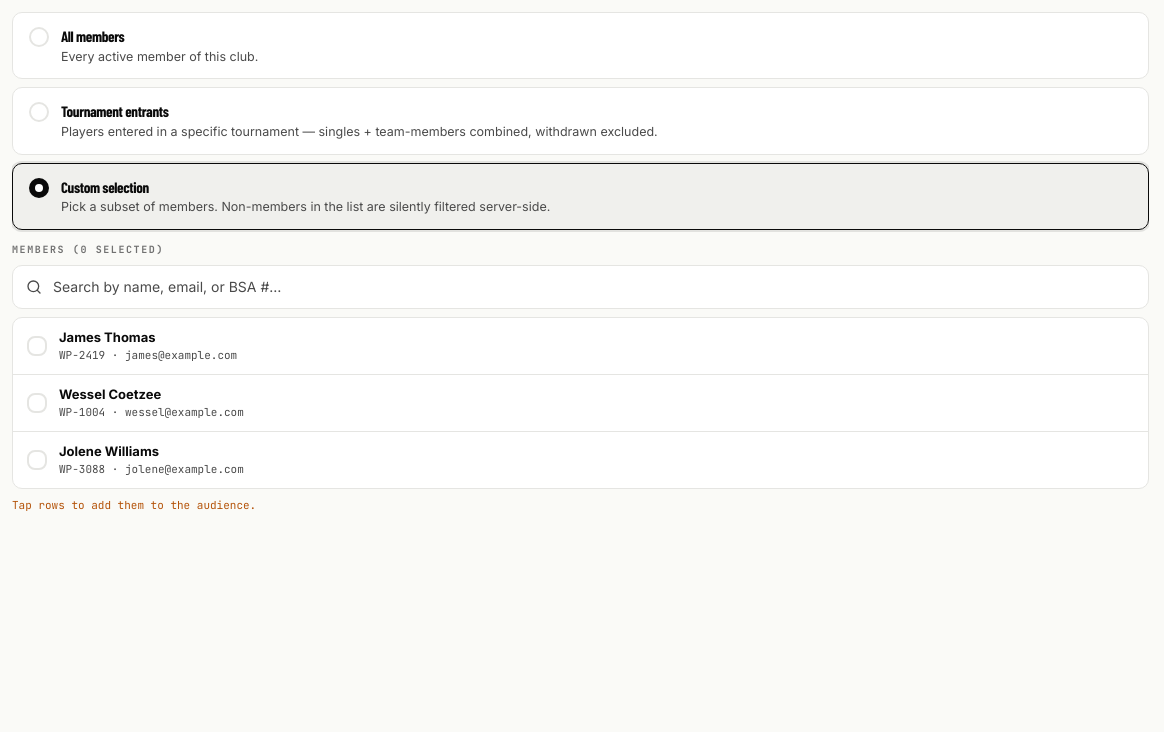
<AudiencePicker /> — custom multi-select › shows 'no matches' when search excludes everyone
Type "no-such-name" into the search field labelled "Members (0 selected)".
click(580, 287); type("no-such-name")  # box [12,265,1149,309]
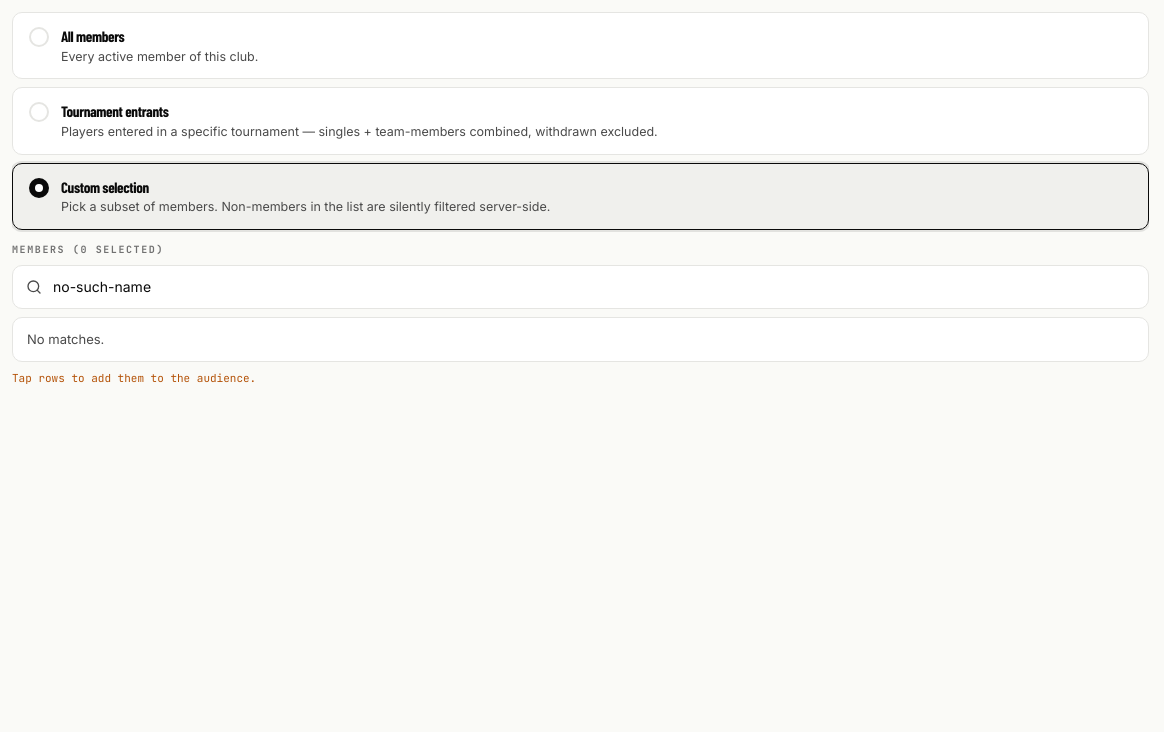
expect the text "No matches." is shown: met, box [27,331,104,347]
